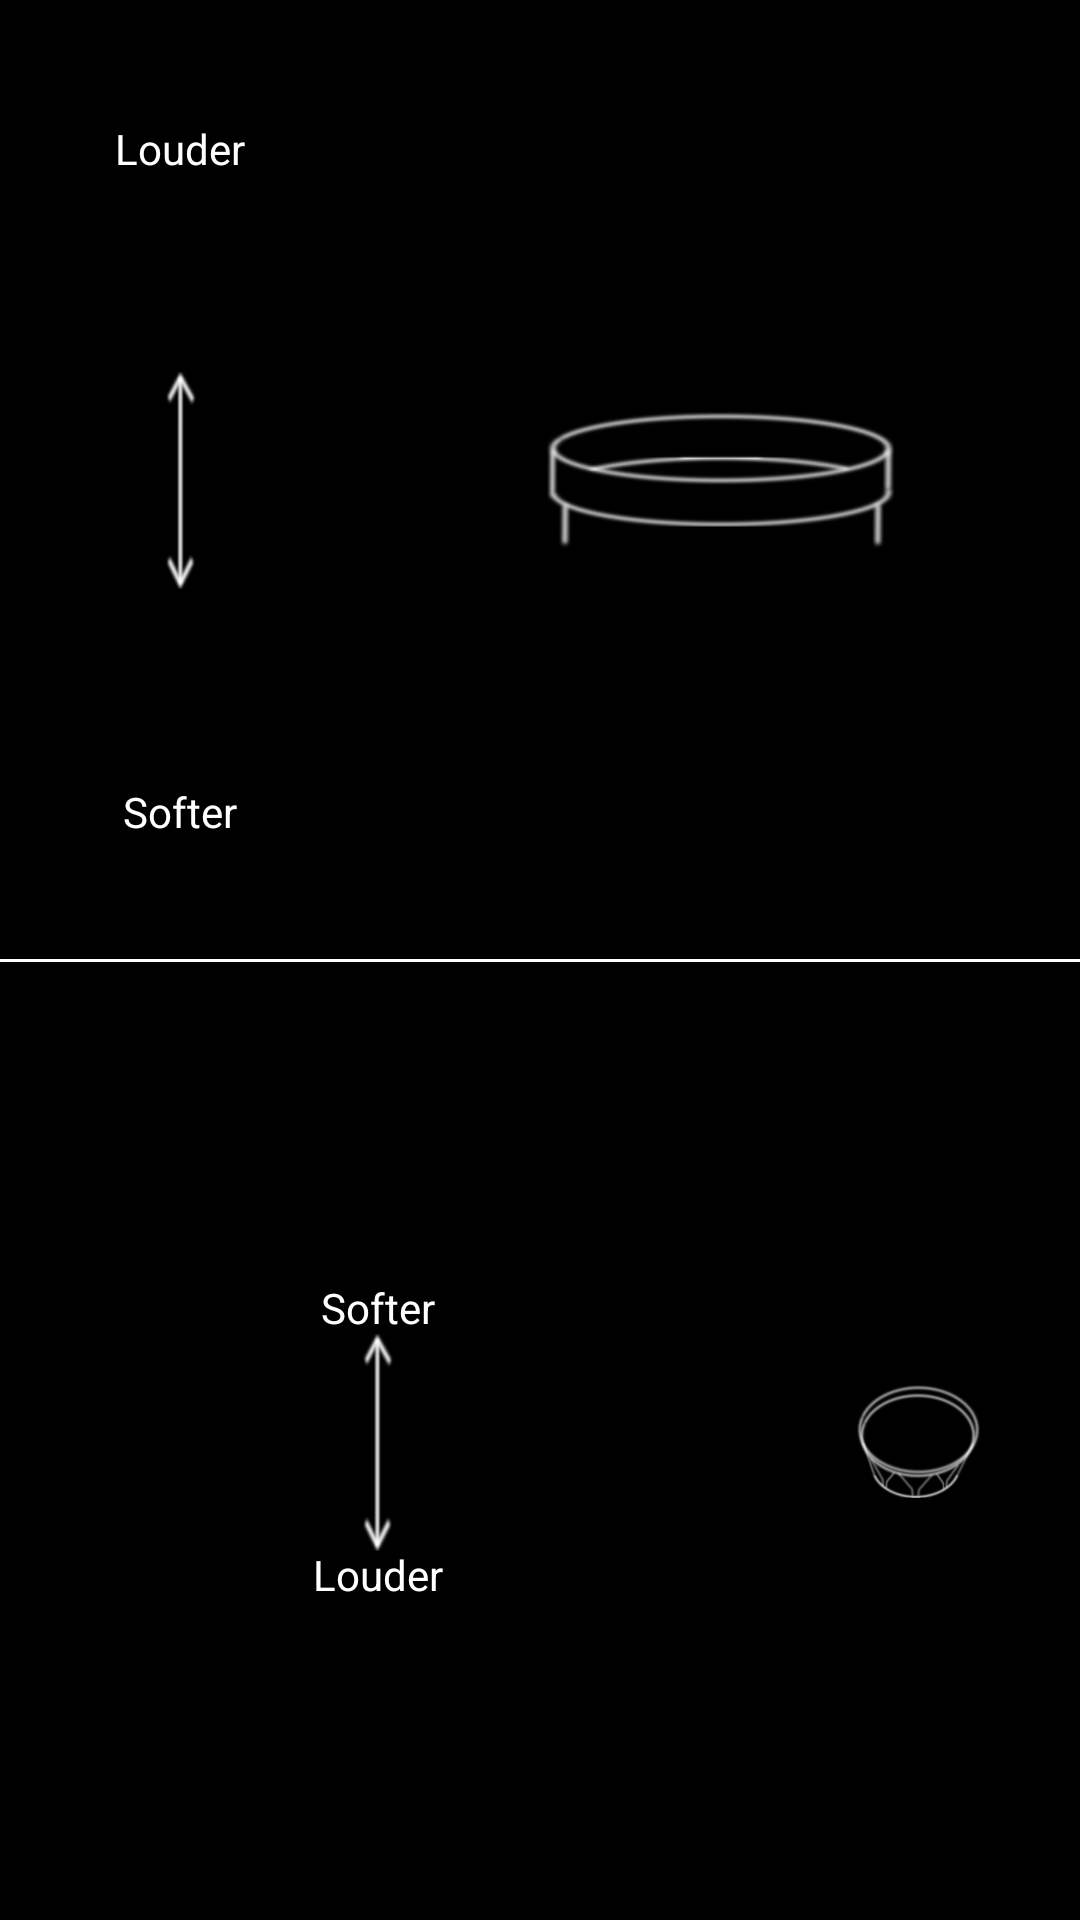

Where icons sit on this 1080px x 1920px app screen, as (x1, y1, x2, y2):
rim: (548, 413, 894, 546)
